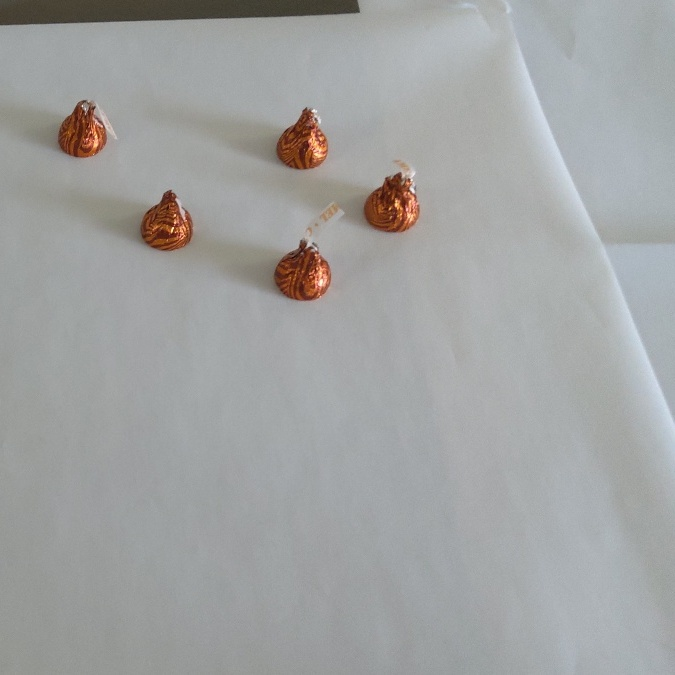chocolate_gold: (54, 100, 111, 161), (274, 241, 331, 302), (137, 192, 194, 252), (365, 171, 422, 231), (275, 111, 331, 171)
